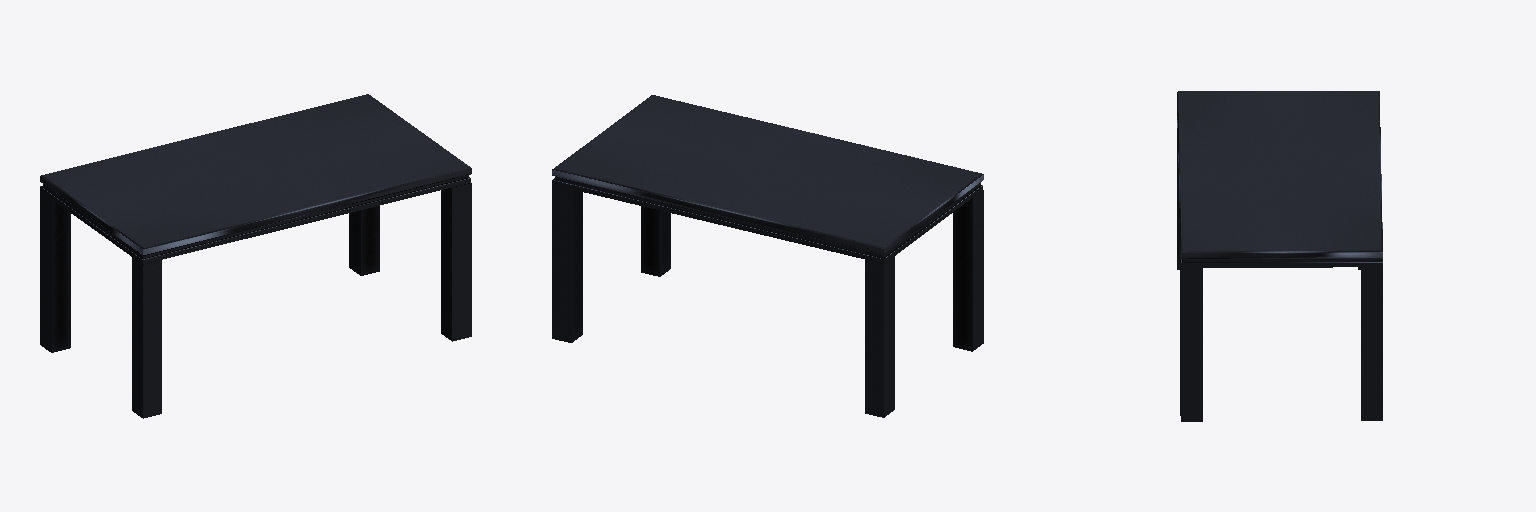
3 views of the same model, side by side, from view 1: azimuth 30°, elevation 25°; view 2: azimuth 150°, elevation 25°; view 3: azimuth 270°, elevation 25° (orthographic).
Visible parts, largest first — view 1: solid; view 2: solid; view 3: solid.
Part boxes in pixels (x1,y1,x2,y2): solid: (40,94,471,418); solid: (552,95,983,417); solid: (1177,91,1382,421).
Size of the model in its own units: 1.71 by 0.8386 by 0.9215.
1 materials, 1 textured.